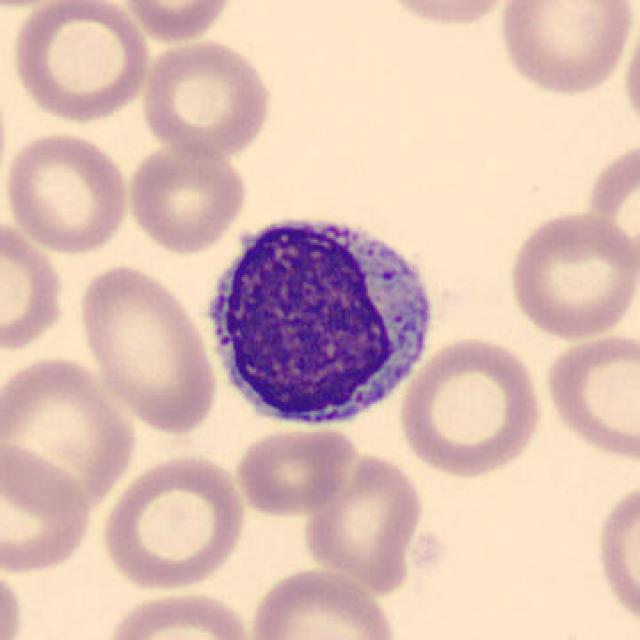Lymphocyte: (194, 201, 444, 435)
RBC: (74, 259, 220, 437), (0, 351, 140, 513), (396, 333, 546, 480), (98, 452, 249, 594), (503, 206, 638, 342), (7, 0, 153, 125), (301, 450, 428, 592), (137, 37, 275, 160), (2, 129, 133, 257), (122, 139, 250, 256), (494, 0, 636, 99), (0, 437, 96, 577), (540, 328, 638, 464), (229, 423, 359, 518), (245, 566, 400, 640), (0, 213, 69, 356), (100, 587, 254, 640), (592, 472, 638, 633), (121, 0, 238, 44), (370, 0, 524, 30), (620, 5, 640, 141), (0, 557, 25, 640)
